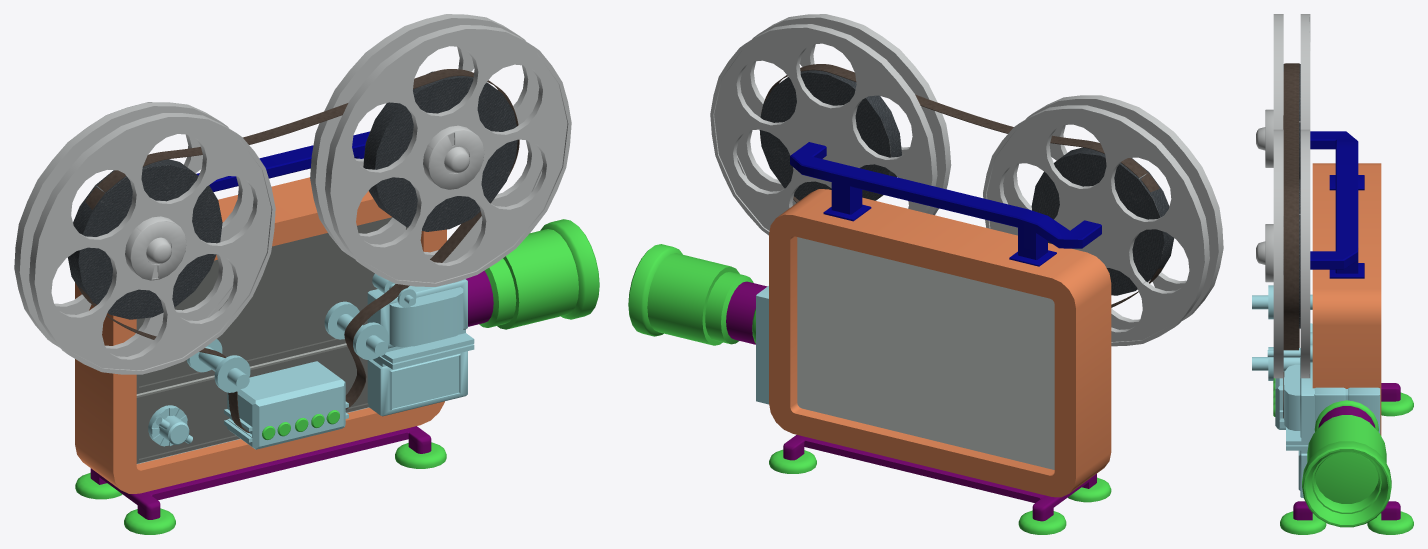
The model's file is uploads_files_2181451_projector3d_cgtrader.fbx.
3 views of the same model, side by side, from view 1: azimuth 30°, elevation 25°; view 2: azimuth 150°, elevation 25°; view 3: azimuth 270°, elevation 25° (orthographic). The views are drawn at different scales.
Parts seen in each view (by area): view 1: body, wheel02, wheel, band; view 2: body, wheel02, wheel, band; view 3: body, wheel, band, wheel02.
Part boxes in pixels (x1,y1,x2,y2): body: (75,131,599,534); wheel02: (14,102,275,374); wheel: (310,14,571,286); band: (77,69,519,432); body: (628,142,1111,534); wheel02: (983,95,1223,346); wheel: (710,14,951,235); band: (760,64,1162,307); body: (1252,131,1413,534); wheel: (1256,129,1310,378); band: (1283,63,1299,418); wheel02: (1256,14,1310,179).
Bounding box in the file's own units: 6554 × 4674 × 1759.
4 materials, 2 textured.
